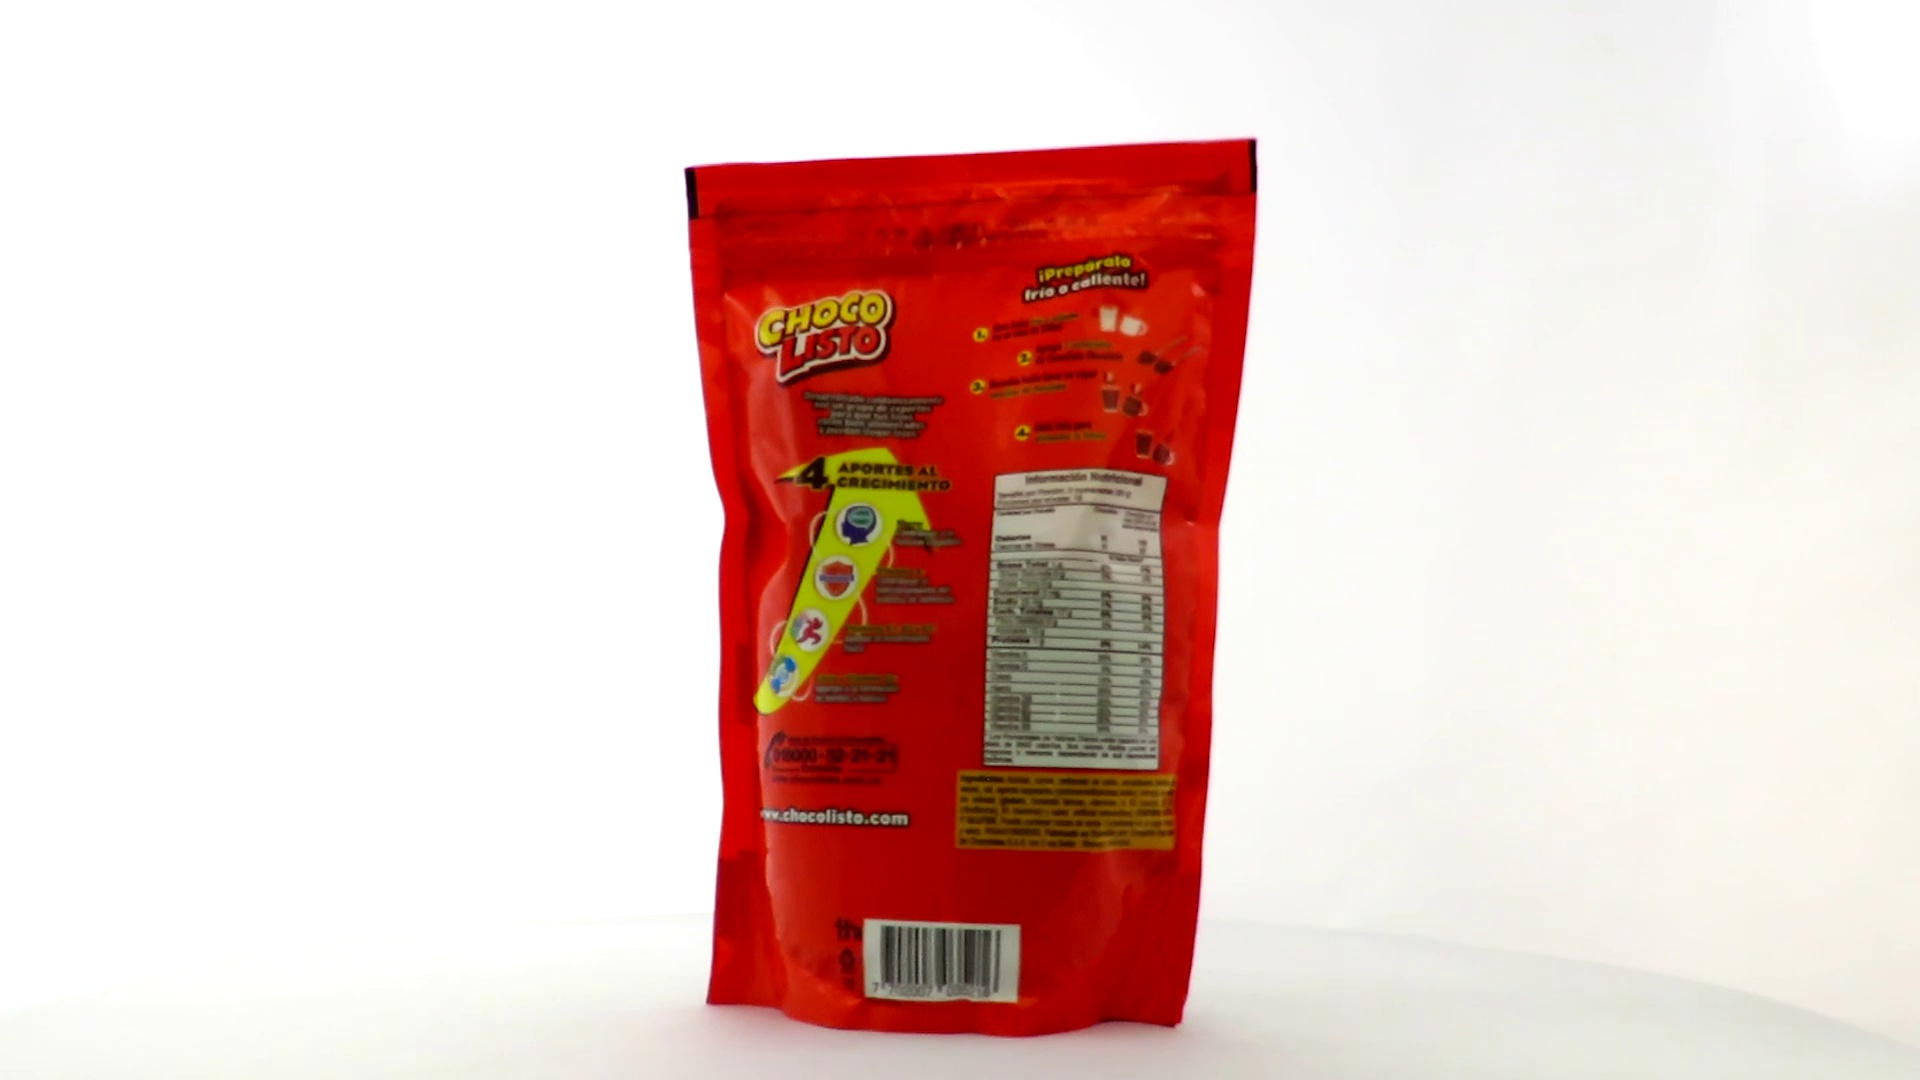COL0170103DYP36000: (679, 133, 1263, 1044)
